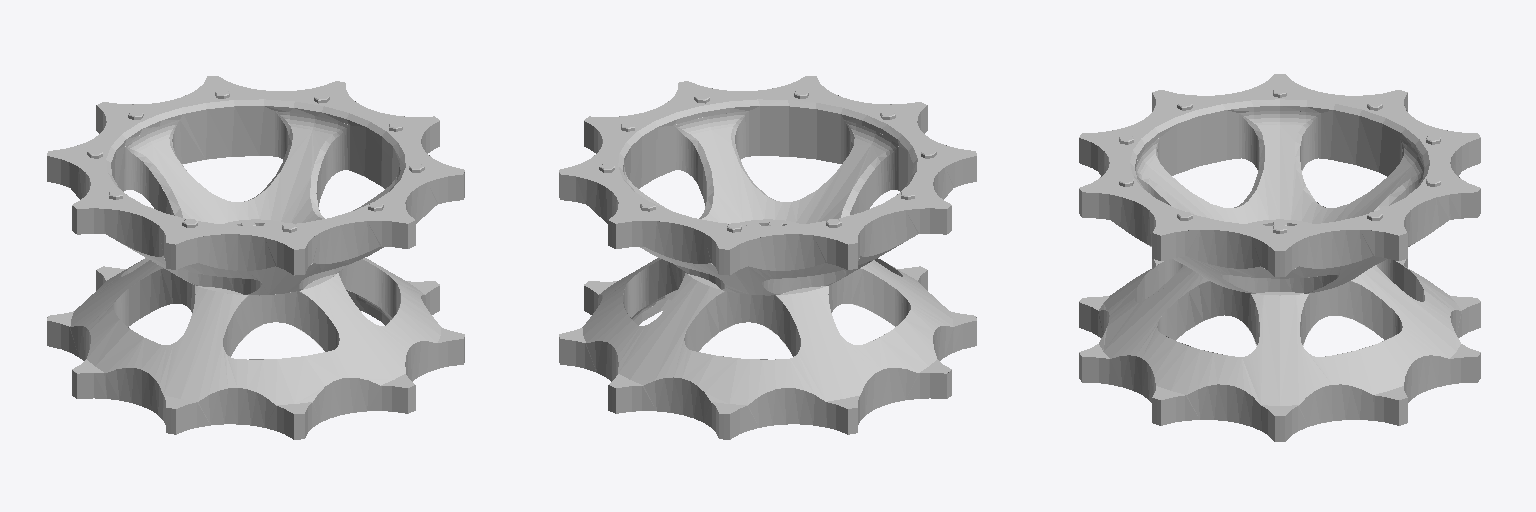
The model's file is Sprocket_L.obj.
3 renders of one model, left to right at view 1: azimuth 30°, elevation 25°; view 2: azimuth 150°, elevation 25°; view 3: azimuth 270°, elevation 25°, orthographic.
Visible parts, largest first — view 1: Object_1 Mesh Mesh; view 2: Object_1 Mesh Mesh; view 3: Object_1 Mesh Mesh.
Part boxes in pixels (bbox=[...]): Object_1 Mesh Mesh: bbox=[47, 76, 464, 439]; Object_1 Mesh Mesh: bbox=[559, 76, 976, 439]; Object_1 Mesh Mesh: bbox=[1079, 74, 1480, 441].
Bounding box in the file's own units: 0.52 × 0.265 × 0.4986.